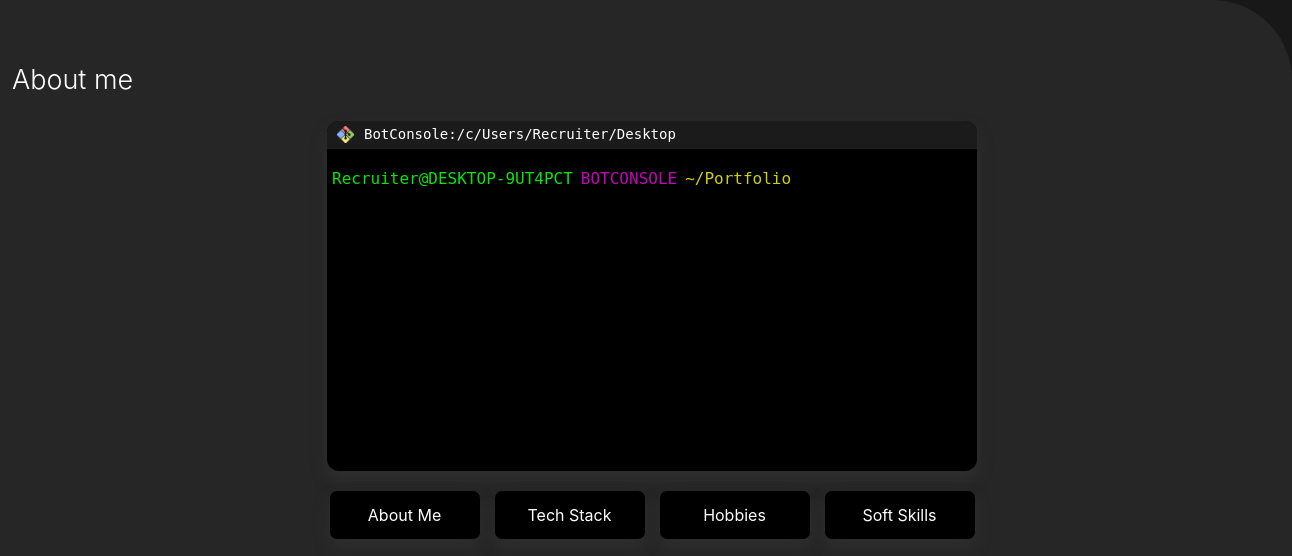
Test: ConsoleBot integration › renders tech stack when 'Tech Stack' button is clicked
Click the button "Tech Stack" at (570, 514), box [494,490,644,538]
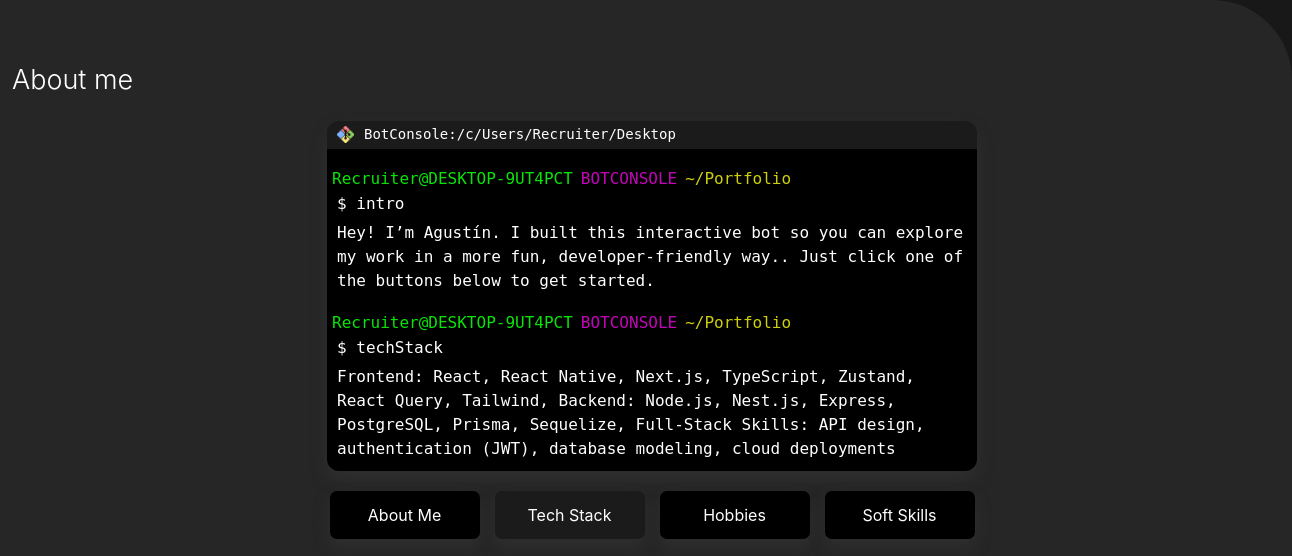
Now the text "Frontend: React" is shown, box [337,366,925,458]
